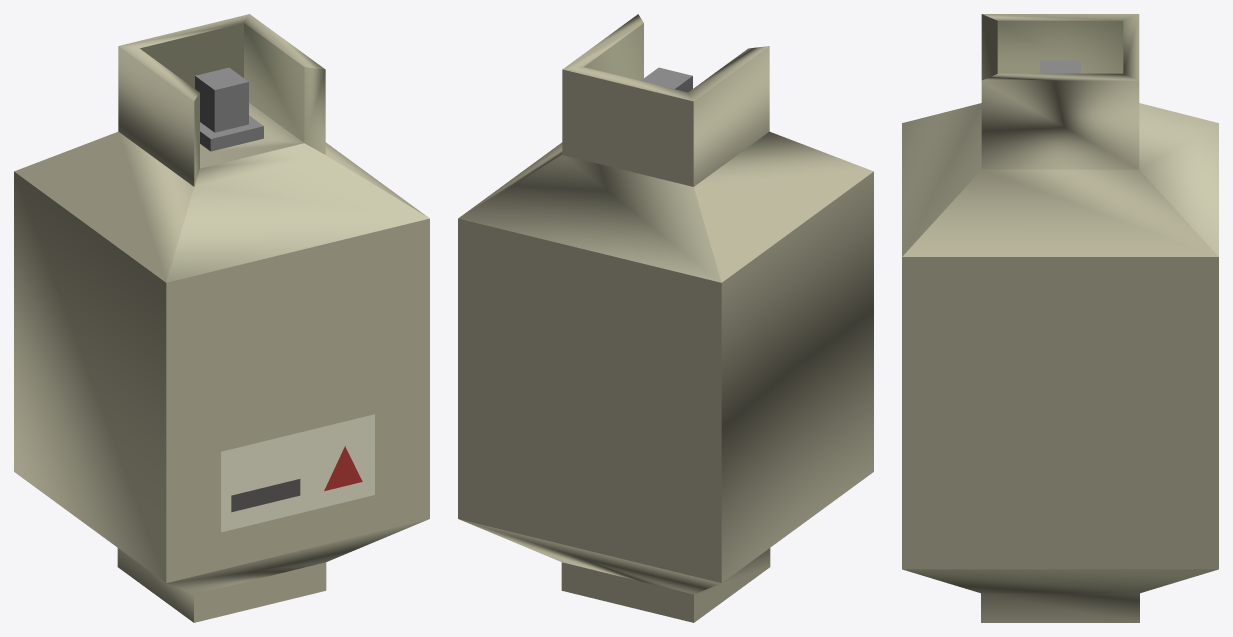
The model's file is apoc_prop_30.glb.
3 renders of one model, left to right at view 1: azimuth 30°, elevation 25°; view 2: azimuth 150°, elevation 25°; view 3: azimuth 270°, elevation 25°, orthographic. The views are drawn at different scales.
Parts seen in each view (by area): view 1: prop_032; view 2: prop_032; view 3: prop_032.
Boxes of the visible parts, x1,y1,x2,y2 form: prop_032: (14,14,429,622); prop_032: (458,14,873,622); prop_032: (902,14,1218,622).
Size of the model in its own units: 0.0654 by 0.1234 by 0.0654.
Materials: 1 (1 with a texture image).
